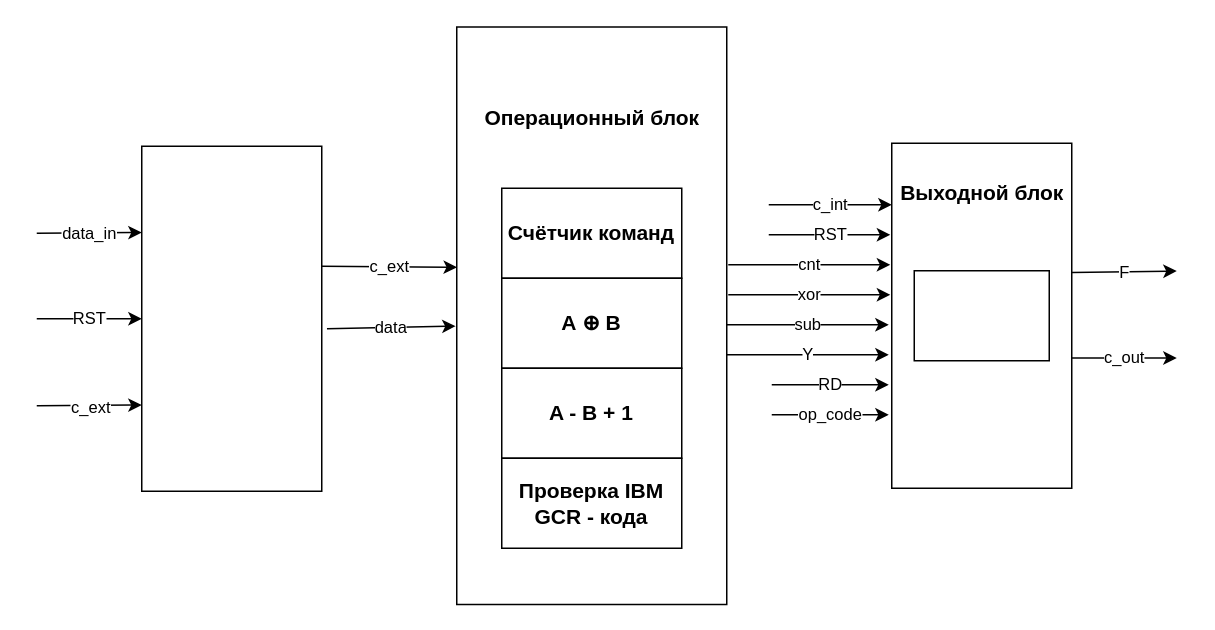
This 1215x630 diagram has some shape labels left out. Each missing label, with the centre of its shape:
Mux: the point at 981,315
Входной блок: the point at 231,318
